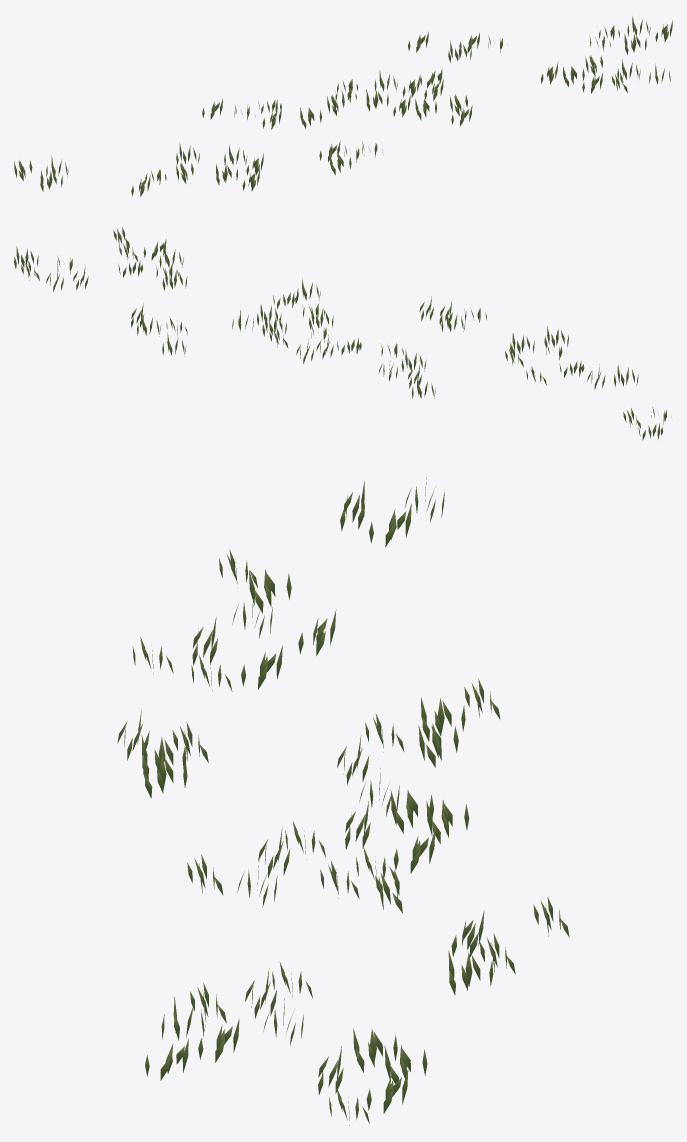
File: plants_un_main_grass_set71_03.gltf
The picture shows the model from 3 angles, top to bottom: view 1: azimuth 30°, elevation 25°; view 2: azimuth 150°, elevation 25°; view 3: azimuth 270°, elevation 25°; orthographic projection. The views are drawn at different scales.
Visible parts, largest first — view 1: plants_un_main_grass_set71_03_mesh_shape:plants_un_main_gras; view 2: plants_un_main_grass_set71_03_mesh_shape:plants_un_main_gras; view 3: plants_un_main_grass_set71_03_mesh_shape:plants_un_main_gras.
Boxes of the visible parts, x1,y1,x2,y2 form: plants_un_main_grass_set71_03_mesh_shape:plants_un_main_gras: (14, 16, 672, 196); plants_un_main_grass_set71_03_mesh_shape:plants_un_main_gras: (14, 226, 671, 440); plants_un_main_grass_set71_03_mesh_shape:plants_un_main_gras: (117, 473, 569, 1125).
Size of what is drawn, in the model's own units: 14.84 by 0.4188 by 4.55.
Materials: 1 (1 with a texture image).
